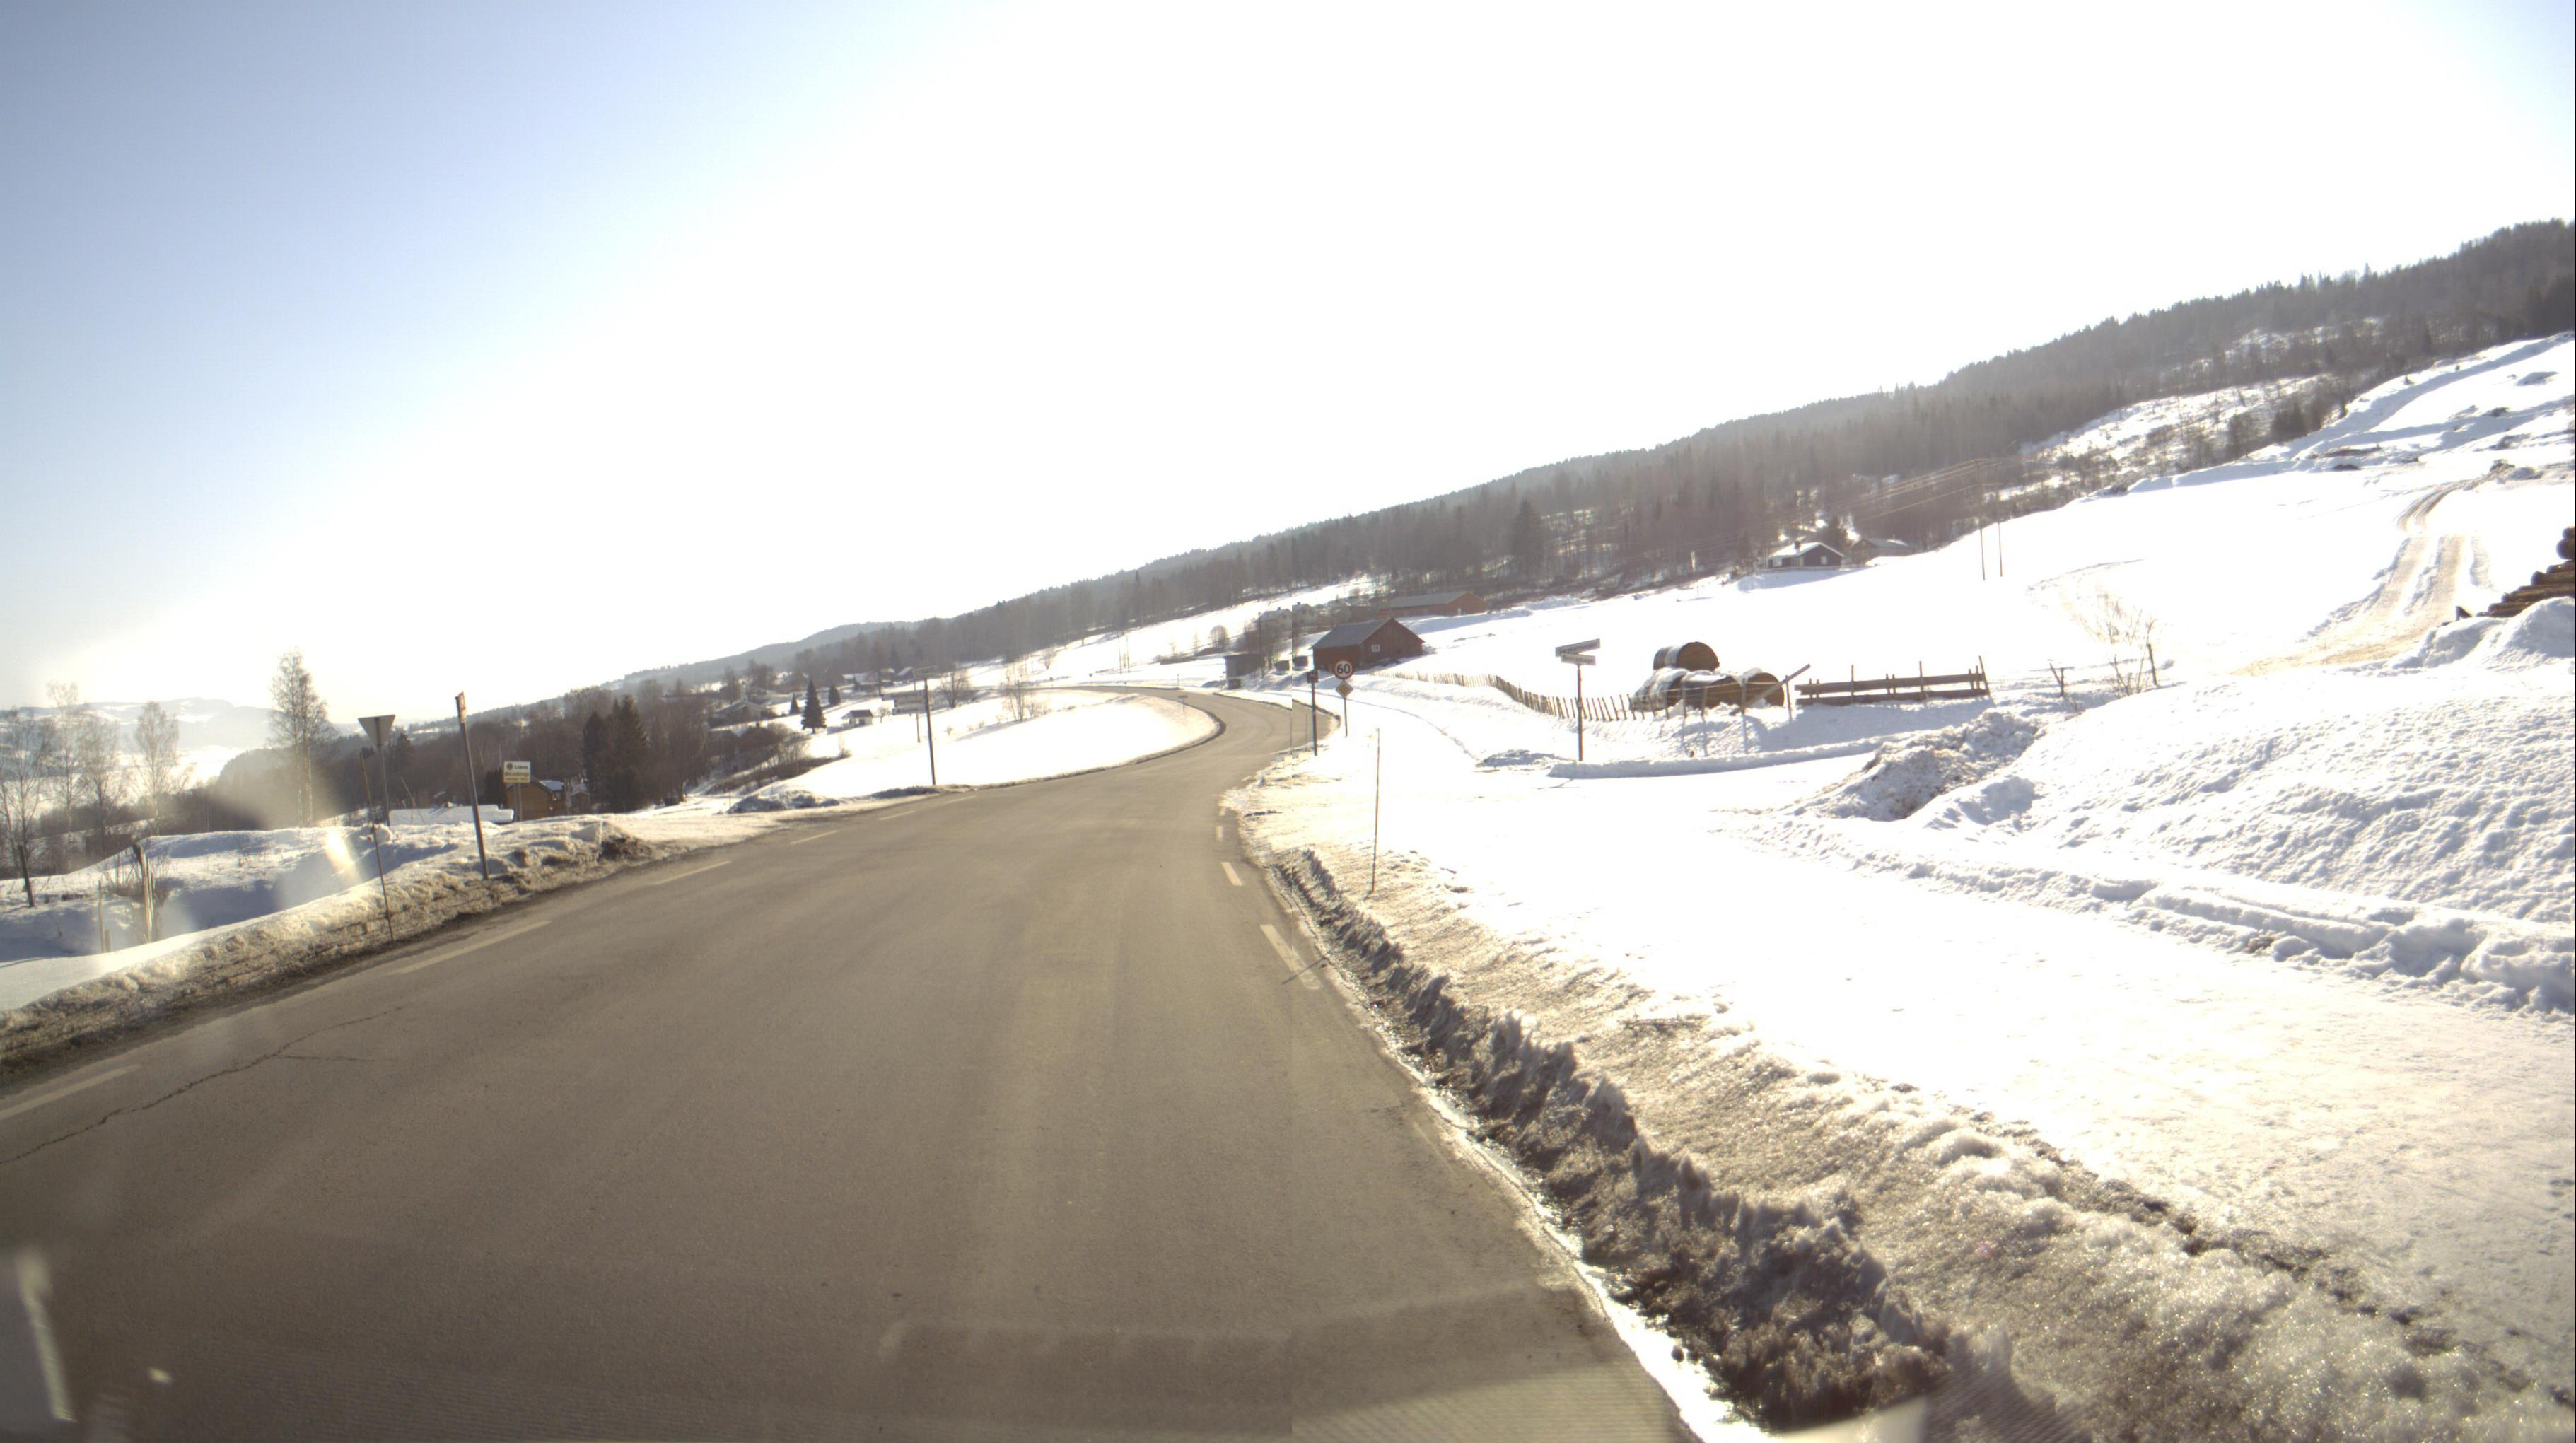Plaisa: (0, 1000, 408, 1167)
